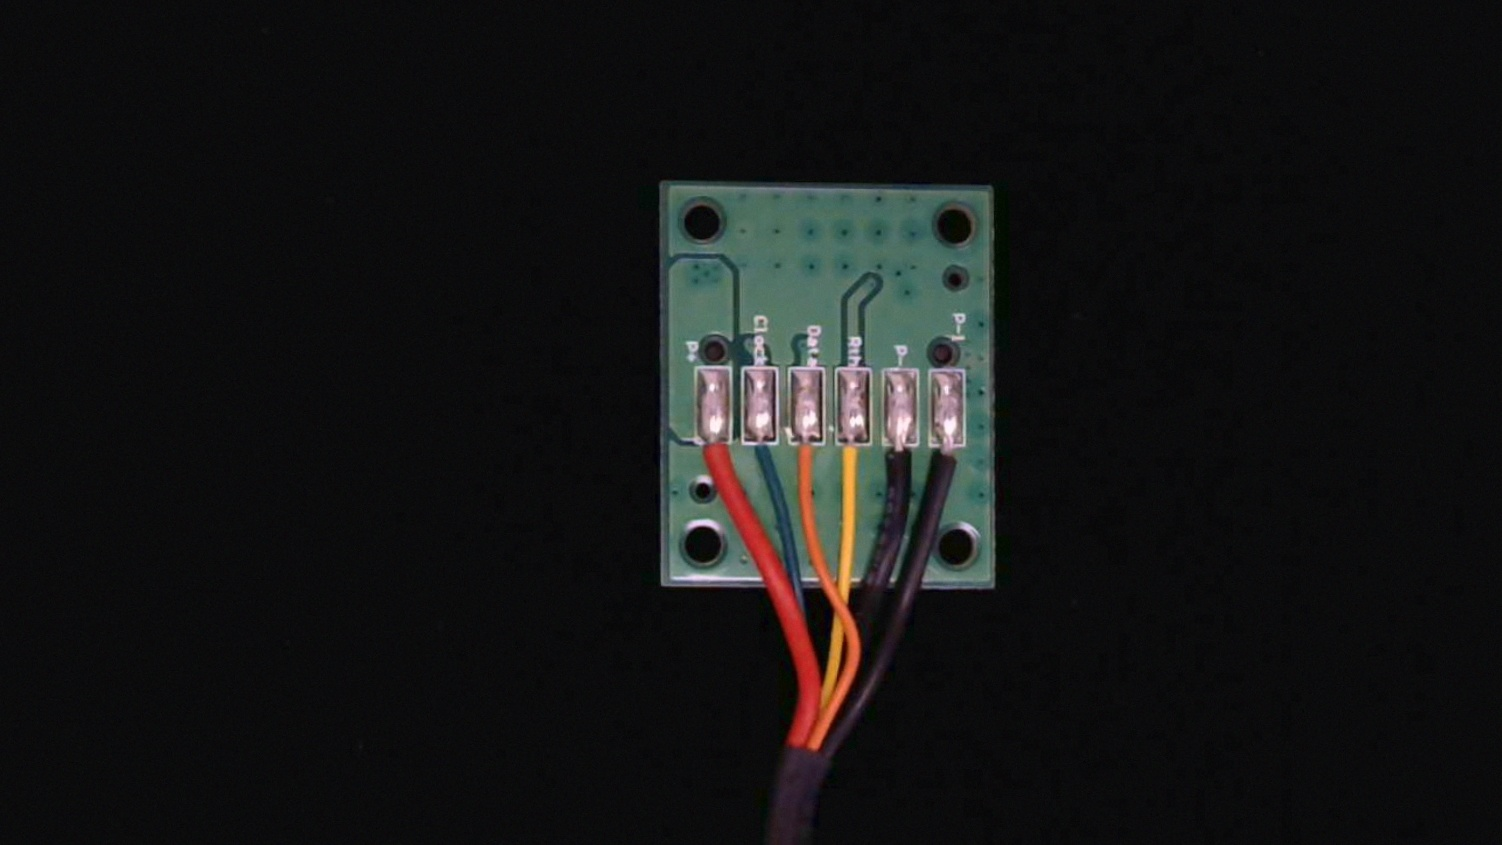Black: (879, 423, 921, 513)
Black1: (936, 424, 971, 510)
Green: (744, 422, 779, 497)
Orange: (789, 422, 828, 511)
Red: (696, 422, 734, 505)
Yellow: (830, 424, 873, 515)
